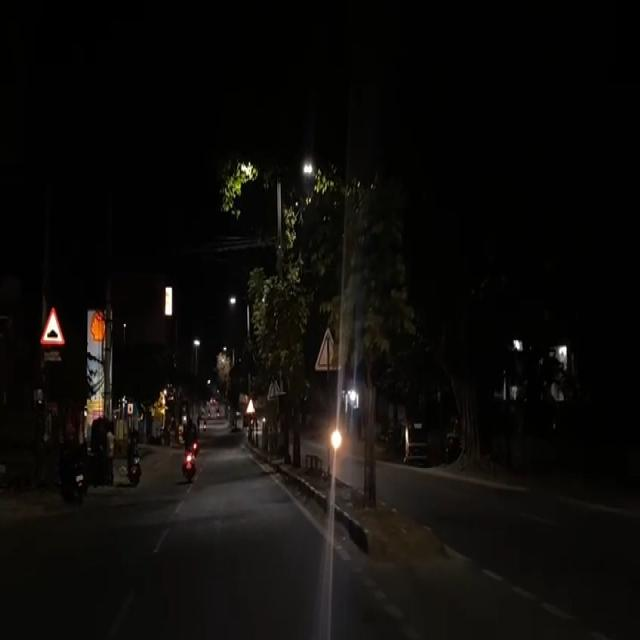bien_cam: (39, 303, 66, 347)
